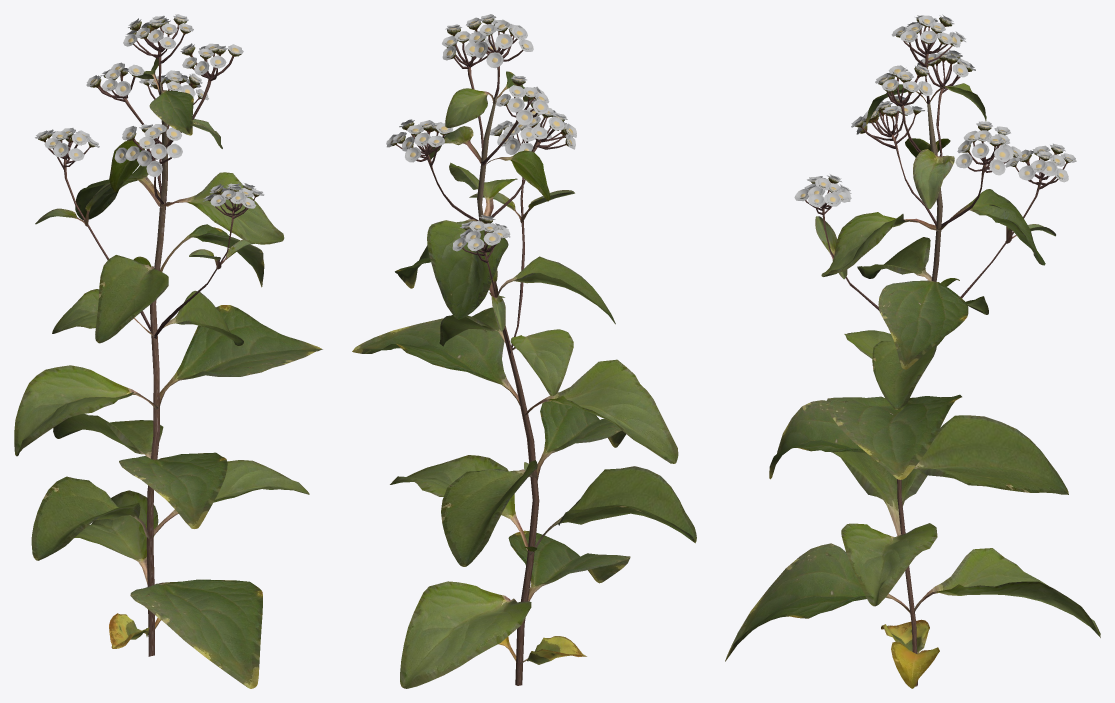
Rendered from shrub.glb.
3 views of the same model, side by side, from view 1: azimuth 30°, elevation 25°; view 2: azimuth 150°, elevation 25°; view 3: azimuth 270°, elevation 25° (orthographic). The views are drawn at different scales.
Visible parts, largest first — view 1: shrub_a; view 2: shrub_a; view 3: shrub_a.
Part boxes in pixels (x1,y1,x2,y2): shrub_a: (14,14,322,688); shrub_a: (352,14,696,688); shrub_a: (725,14,1100,688).
Size of the model in its own units: 0.1765 by 0.346 by 0.175.
Materials: 1 (1 with a texture image).
